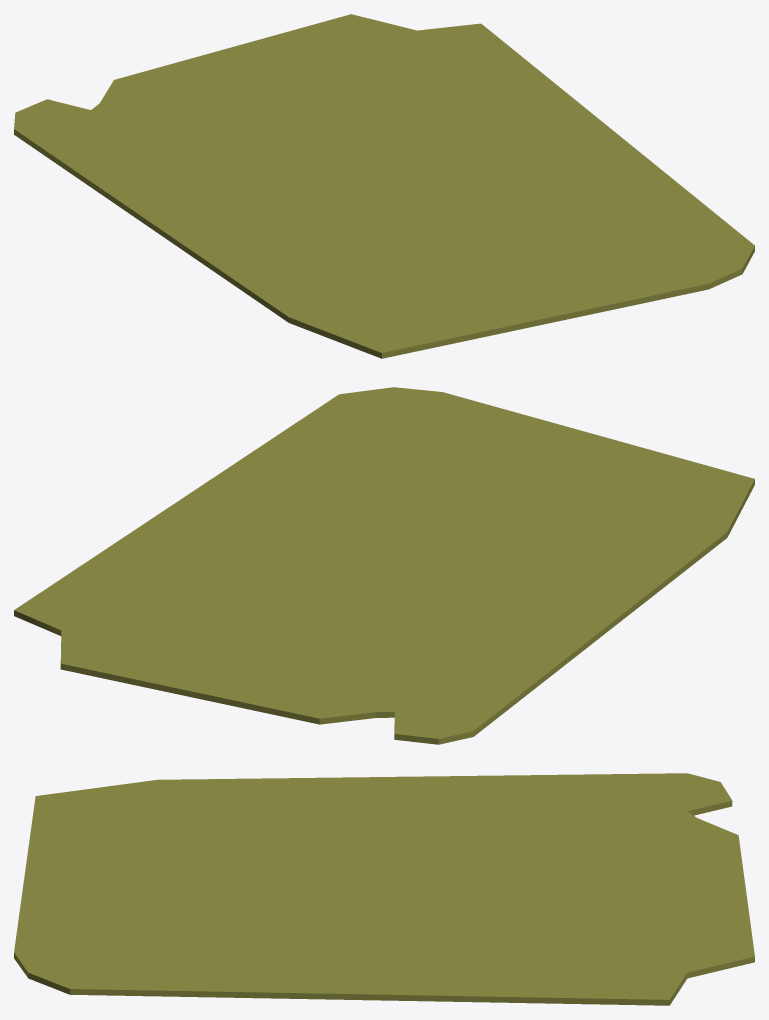
File: papier.fbx
3 renders of one model, top to bottom at view 1: azimuth 30°, elevation 25°; view 2: azimuth 150°, elevation 25°; view 3: azimuth 270°, elevation 25°, orthographic. The views are drawn at different scales.
Parts seen in each view (by area): view 1: Box001; view 2: Box001; view 3: Box001.
Boxes of the visible parts, x1,y1,x2,y2 form: Box001: [14, 14, 754, 358]; Box001: [14, 387, 754, 744]; Box001: [14, 773, 754, 1005].
Bounding box in the file's own units: 41.86 × 0.5034 × 57.82.
